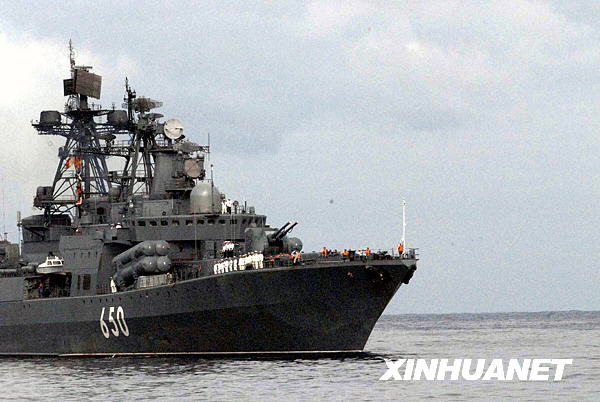warship: (1, 57, 423, 359)
